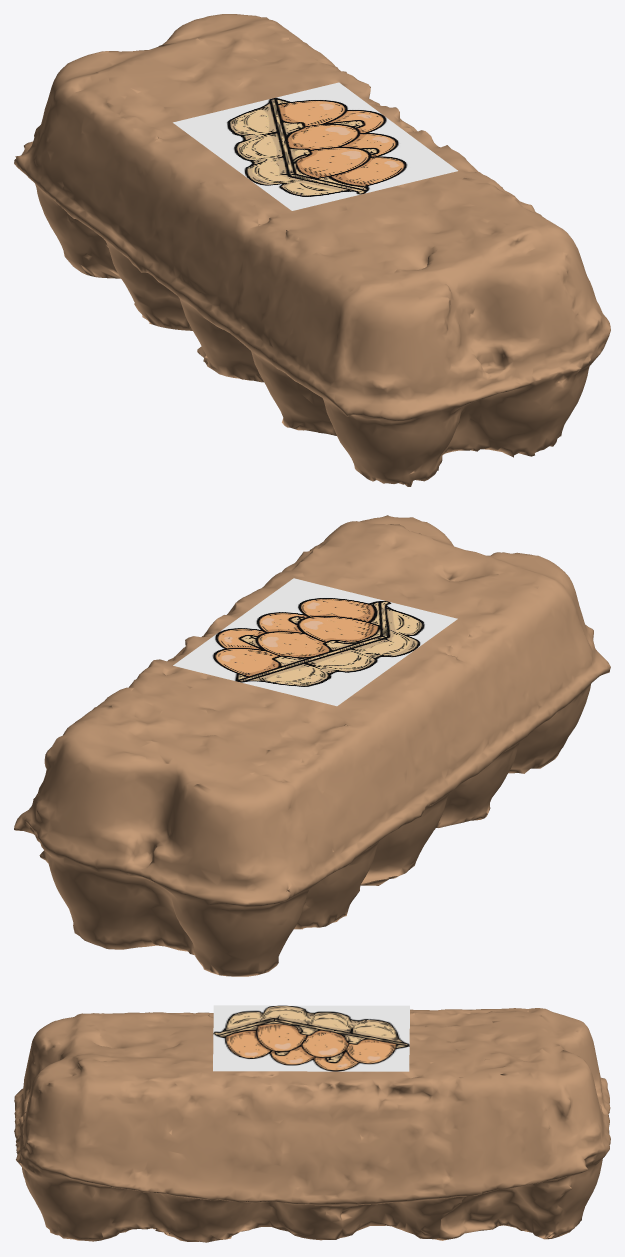
File: eggbox.glb
3 views of the same model, one above another, from view 1: azimuth 30°, elevation 25°; view 2: azimuth 150°, elevation 25°; view 3: azimuth 270°, elevation 25° (orthographic). The views are drawn at different scales.
Visible parts, largest first — view 1: Eierschachtel, 平面; view 2: Eierschachtel, 平面; view 3: Eierschachtel, 平面.
Part boxes in pixels (bbox=[...]): Eierschachtel: bbox=[14, 14, 610, 486]; 平面: bbox=[173, 82, 457, 210]; Eierschachtel: bbox=[14, 515, 610, 976]; 平面: bbox=[173, 578, 457, 706]; Eierschachtel: bbox=[14, 1008, 610, 1242]; 平面: bbox=[213, 1005, 409, 1071].
Bounding box in the file's own units: 2.82 × 1.87 × 6.08.
Materials: 2 (1 with a texture image).
